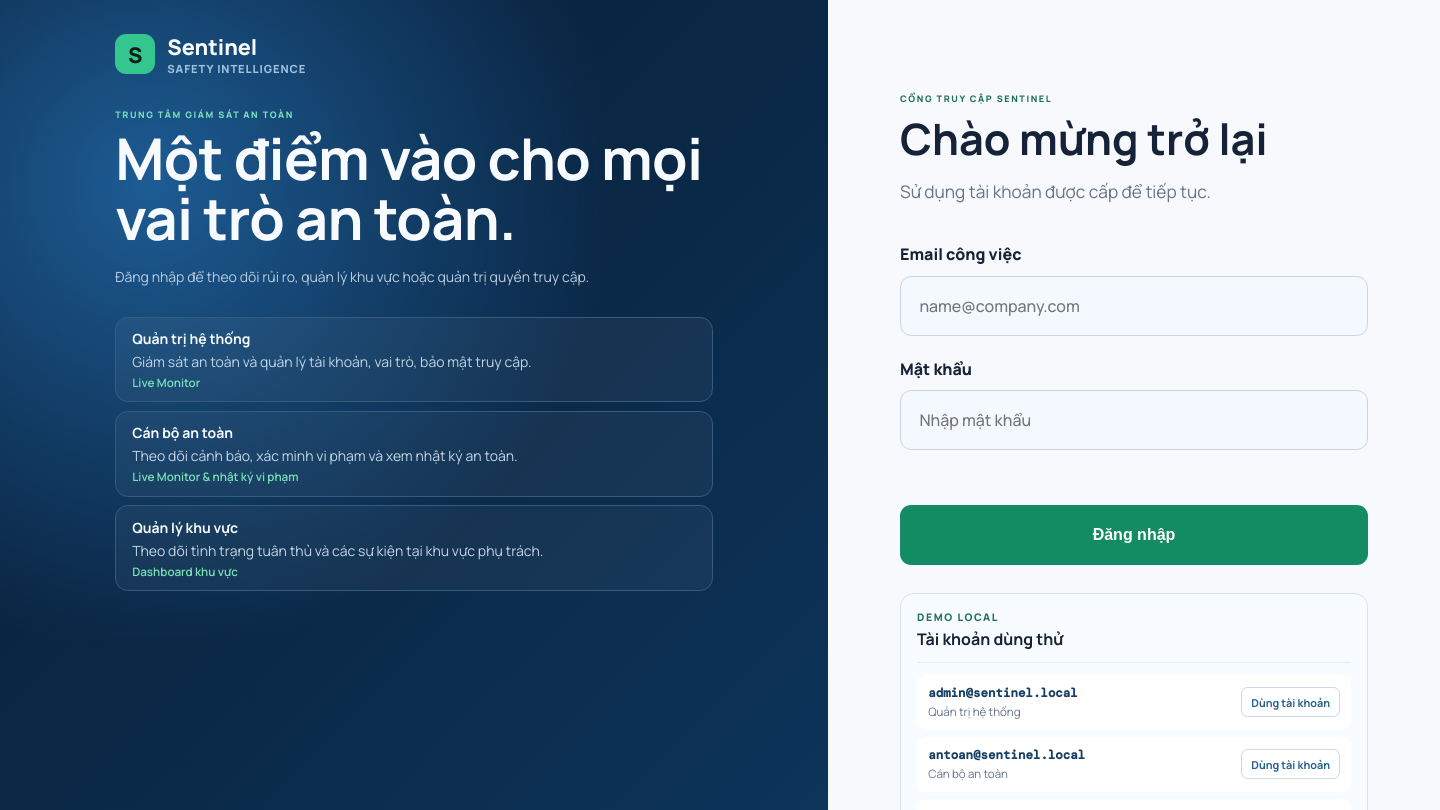
Scenario: Sentinel authentication › fills the login form from a demo account shortcut
The width and height of the screenshot is (1440, 810).
Check: the button "Đăng nhập" is shown, box 900,505 -> 1368,565
Click the button with aria-label "Dùng tài khoản admin@sentinel.local" at (1291, 702), box 1242,687 -> 1340,717
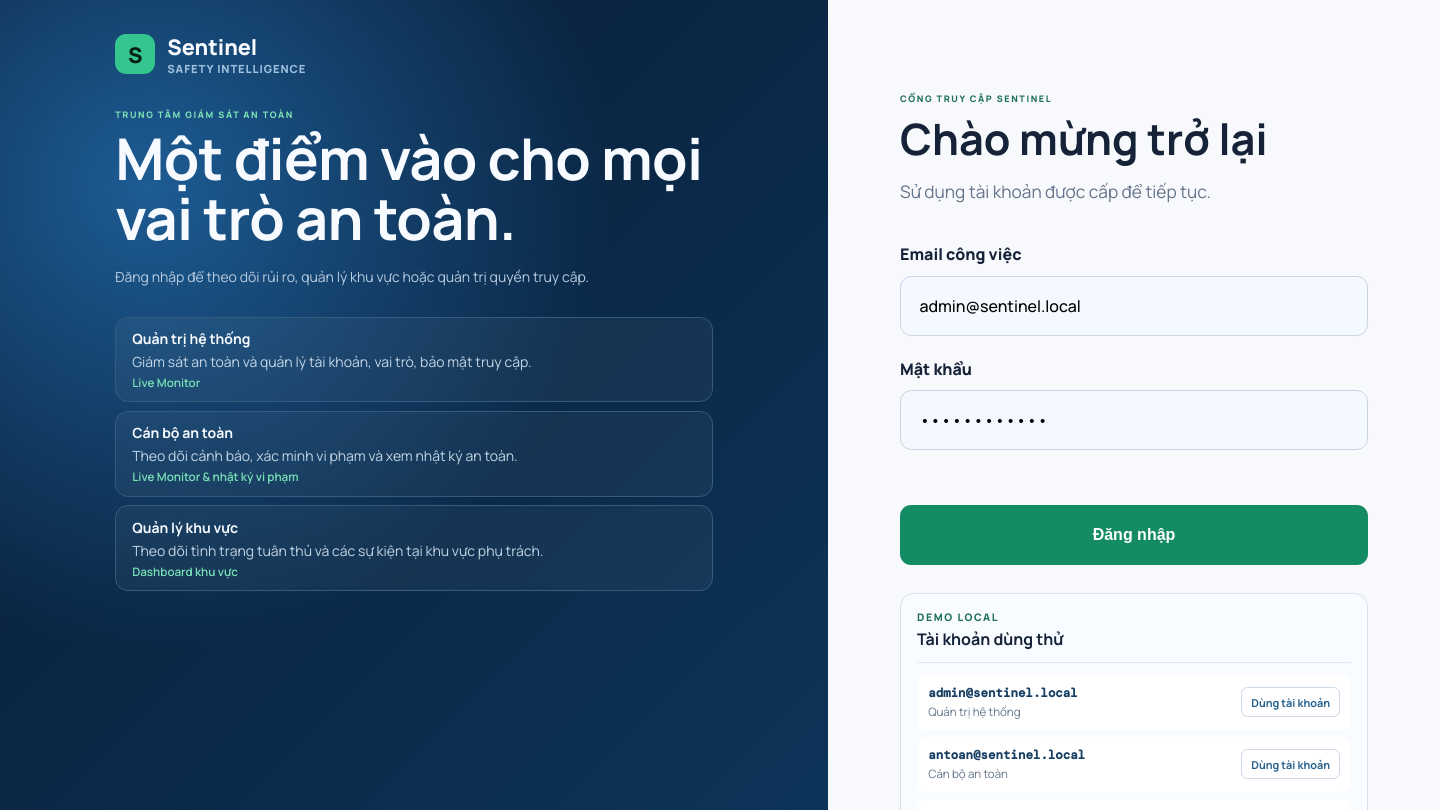
Check: the field labelled "Email công việc" holds "admin@sentinel.local", box 900,276 -> 1368,336
Check: the password field labelled "Mật khẩu" holds "Sentinel123!", box 900,390 -> 1368,450
